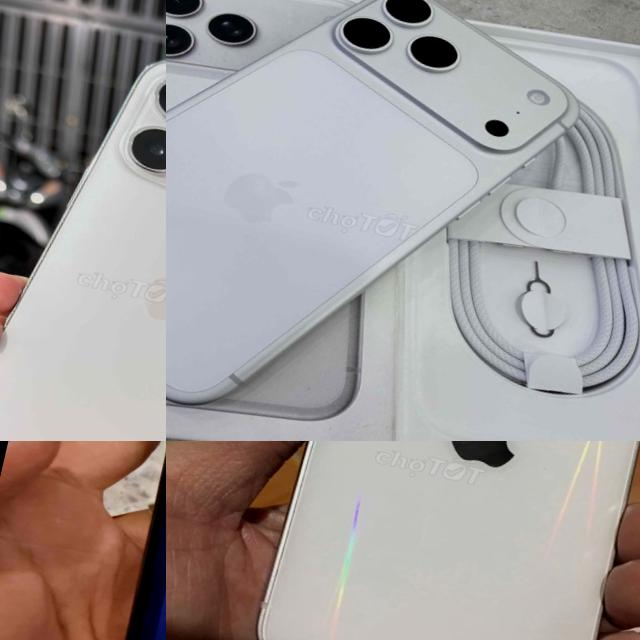gen_12_13: (232, 441, 640, 640)
gen_14: (0, 21, 166, 441), (70, 441, 166, 640)
gen_17: (166, 0, 606, 441)
